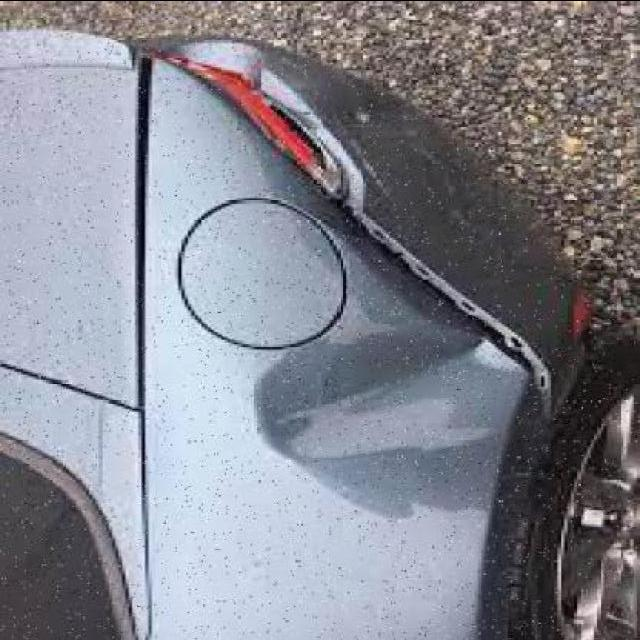quaterpanel-dent: (142, 212, 536, 640)
